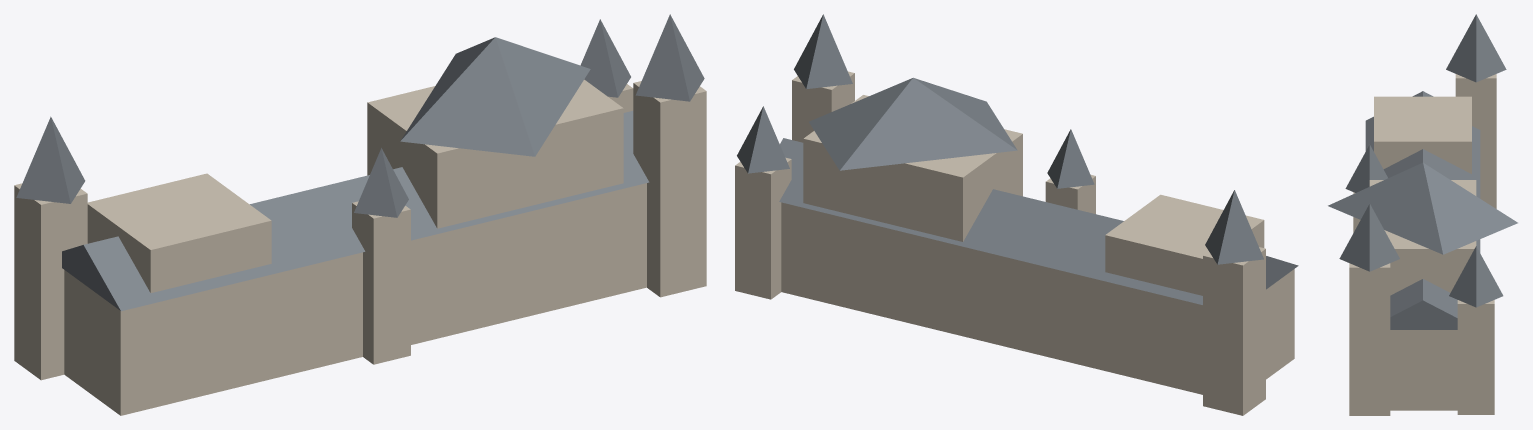
The model's file is alcazarsegovia.glb.
The picture shows the model from 3 angles, left to right: view 1: azimuth 30°, elevation 25°; view 2: azimuth 150°, elevation 25°; view 3: azimuth 270°, elevation 25°; orthographic projection. The views are drawn at different scales.
Bounding box in the file's own units: 133 × 55 × 46.67.
